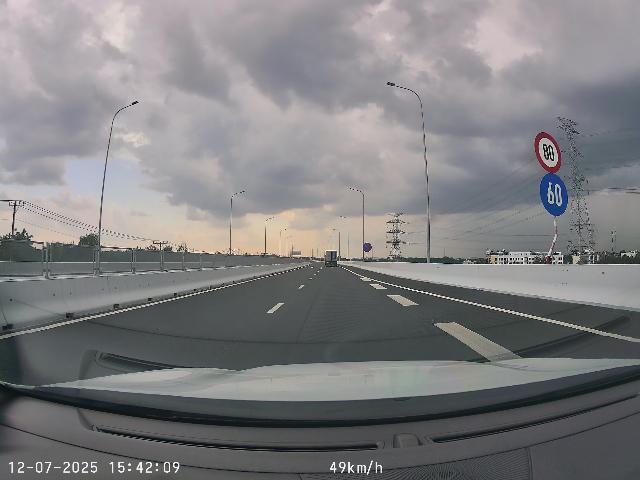127-toc-do-toi-da-80: (534, 132, 562, 173)
306-toc-do-toi-thieu-60: (540, 173, 568, 216)
